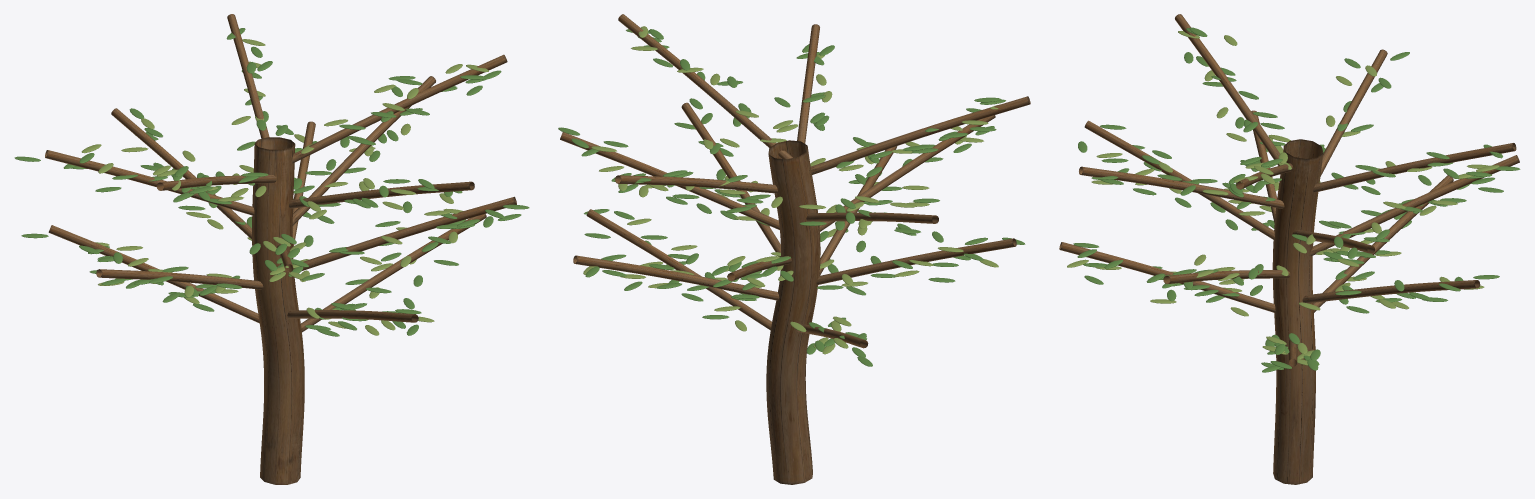
The model's file is palmeira.glb.
3 views of the same model, side by side, from view 1: azimuth 30°, elevation 25°; view 2: azimuth 150°, elevation 25°; view 3: azimuth 270°, elevation 25° (orthographic).
Parts seen in each view (by area): view 1: Tronco, Ramo.005, Ramo.013, Ramo.001, Ramo.004, Ramo.009, Ramo.010, Ramo.008, Ramo, Ramo.006, Ramo.002, Ramo.011 (+2 smaller); view 2: Tronco, Ramo.012, Ramo.003, Ramo.013, Ramo.004, Ramo.008, Ramo, Ramo.011, Ramo.007, Ramo.005, Ramo.009, Ramo.010 (+3 smaller); view 3: Tronco, Ramo.011, Ramo.010, Ramo.006, Ramo.002, Ramo.007, Ramo.012, Ramo.003, Ramo.009, Ramo.001, Ramo.005, Ramo.008.
Part boxes in pixels (x1,y1,x2,y2): Tronco: [252, 137, 304, 484]; Ramo.005: [293, 196, 516, 270]; Ramo.013: [292, 54, 507, 163]; Ramo.001: [48, 225, 259, 323]; Ramo.004: [96, 269, 263, 289]; Ramo.009: [45, 150, 254, 215]; Ramo.010: [289, 181, 474, 208]; Ramo.008: [292, 76, 435, 225]; Ramo: [301, 214, 486, 332]; Ramo.006: [111, 108, 251, 239]; Ramo.002: [287, 310, 418, 322]; Ramo.011: [227, 14, 269, 138]; Tronco: [766, 140, 820, 484]; Ramo.012: [810, 96, 1030, 174]; Ramo.003: [573, 255, 779, 300]; Ramo.013: [618, 14, 792, 159]; Ramo.004: [816, 238, 1016, 284]; Ramo.008: [560, 132, 779, 229]; Ramo: [586, 209, 771, 330]; Ramo.011: [615, 175, 777, 193]; Ramo.007: [819, 115, 995, 231]; Ramo.005: [681, 102, 780, 256]; Ramo.009: [806, 212, 938, 223]; Ramo.010: [797, 24, 819, 143]; Tronco: [1272, 139, 1323, 484]; Ramo.011: [1313, 143, 1516, 192]; Ramo.010: [1079, 166, 1284, 208]; Ramo.006: [1310, 155, 1519, 256]; Ramo.002: [1059, 242, 1275, 312]; Ramo.007: [1084, 120, 1274, 240]; Ramo.012: [1175, 14, 1279, 165]; Ramo.003: [1302, 280, 1480, 303]; Ramo.009: [1320, 49, 1387, 176]; Ramo.001: [1313, 175, 1453, 312]; Ramo.005: [1163, 270, 1290, 283]; Ramo.008: [1292, 230, 1374, 253].
Bounding box in the file's own units: 4.51 × 4.07 × 4.35.
Materials: 3 (1 with a texture image).
